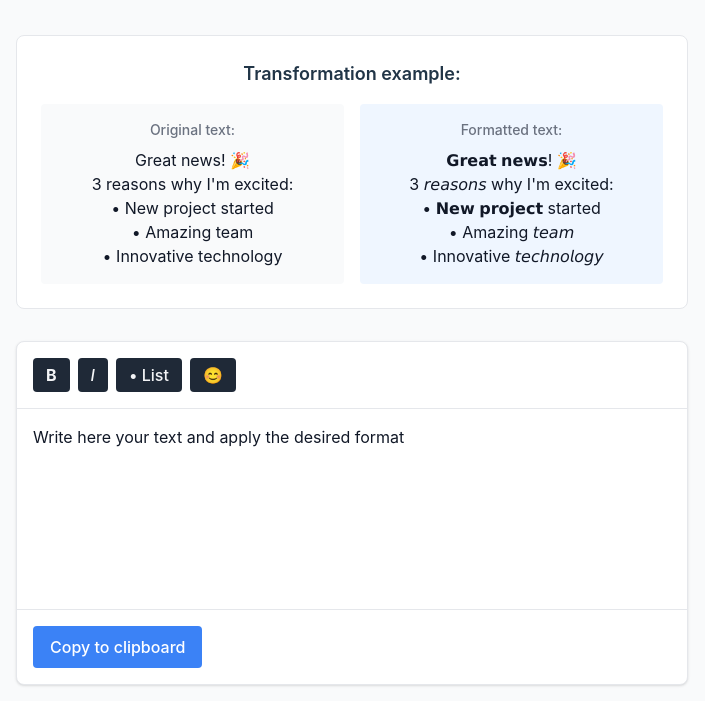
it: Editor Component › shows success message after copying
The width and height of the screenshot is (705, 701).
(page scrolled)
Click the button "Copy to clipboard".
click(118, 647)  # box [33, 626, 202, 668]
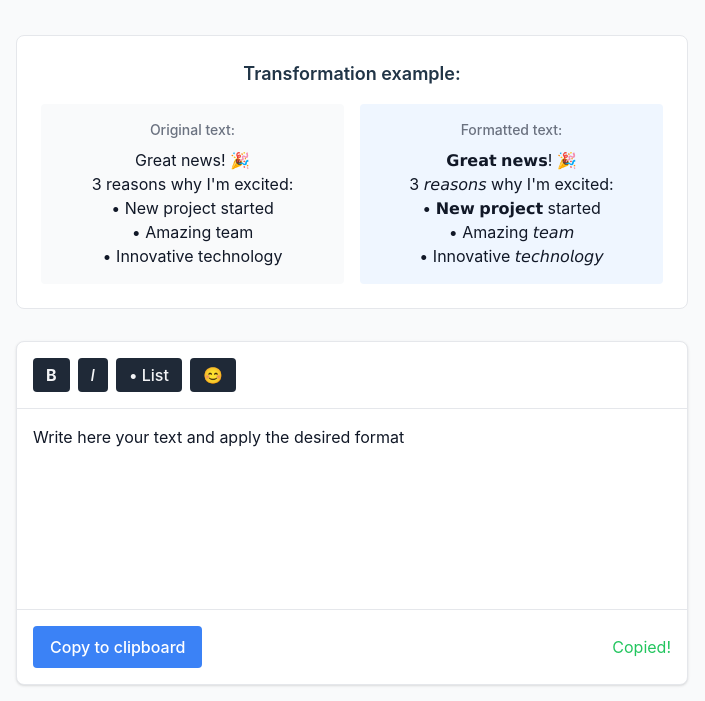
expect the text "Copied!" is shown: met, box [612, 635, 671, 659]
